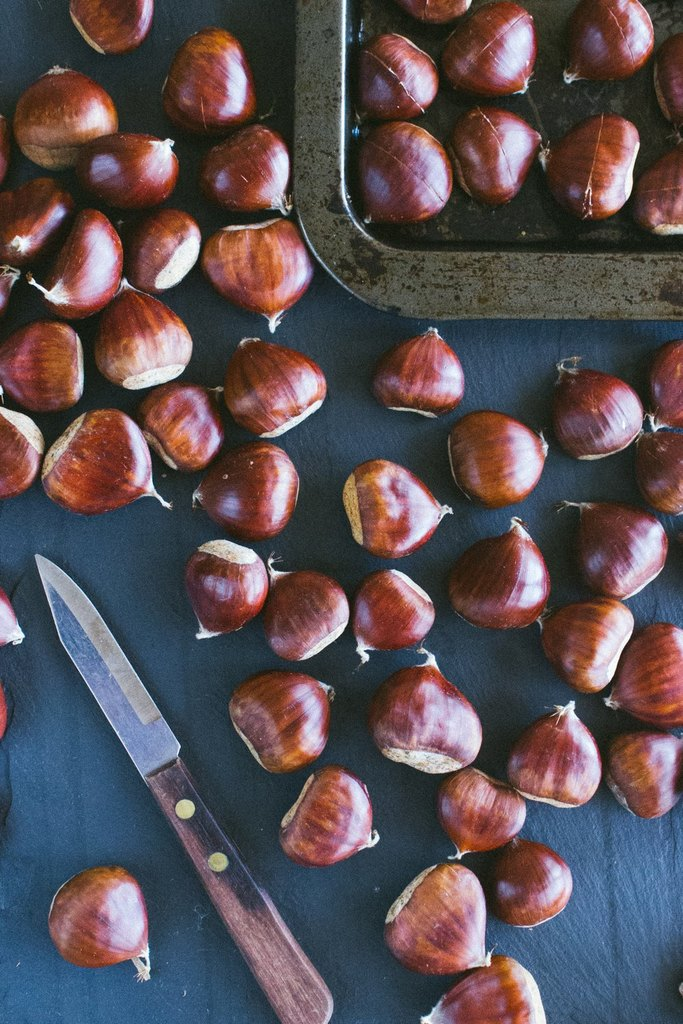knife: (34, 553, 333, 1023)
